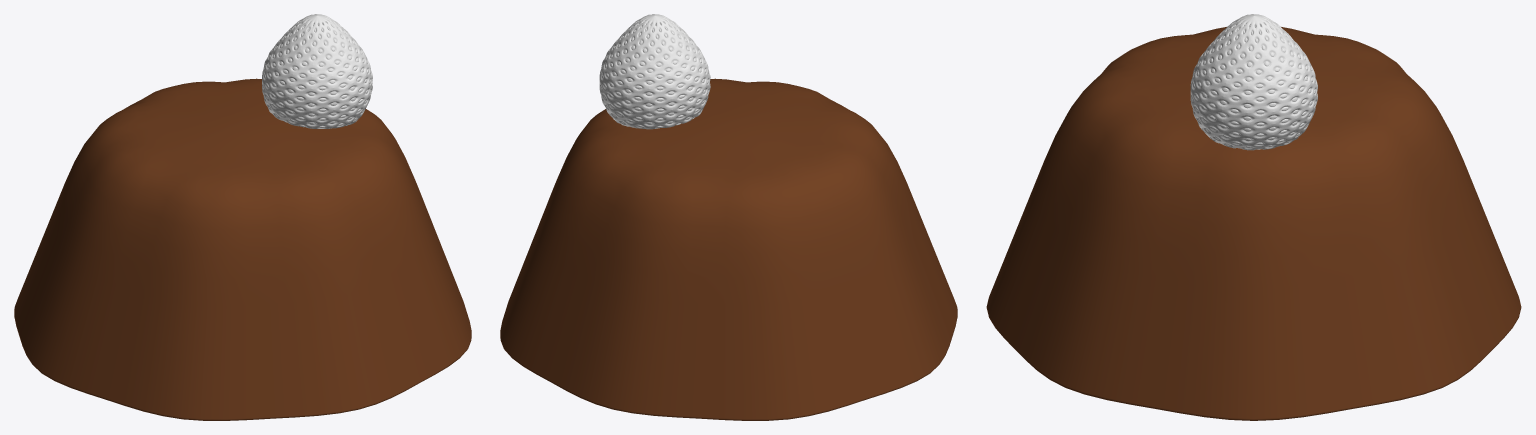
The model's file is lavacake fbx.fbx.
3 renders of one model, left to right at view 1: azimuth 30°, elevation 25°; view 2: azimuth 150°, elevation 25°; view 3: azimuth 270°, elevation 25°, orthographic. The views are drawn at different scales.
Visible parts, largest first — view 1: Cube, strawberry; view 2: Cube, strawberry; view 3: Cube, strawberry.
Boxes of the visible parts, <box> form: Cube: <box>14,78,471,420</box>; strawberry: <box>262,14,372,128</box>; Cube: <box>500,78,957,420</box>; strawberry: <box>599,14,710,129</box>; Cube: <box>986,27,1521,420</box>; strawberry: <box>1190,14,1317,150</box>.
Size of the model in its own units: 616 by 428 by 616.
